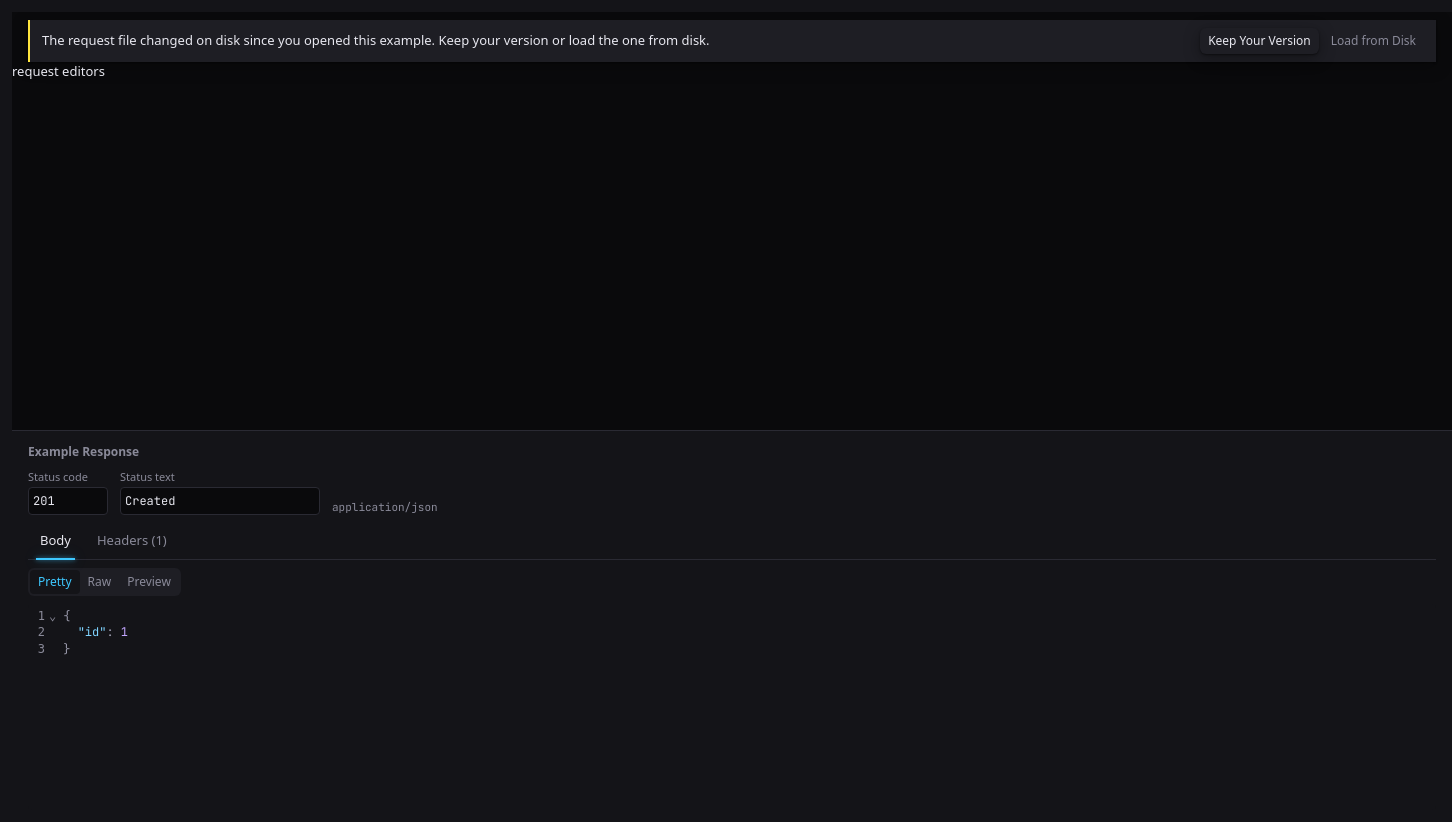
Test: ExampleTab › offers keep mine or load from disk on a revision conflict
What coordinates should you click on to do the following:
click the button "Keep Your Version"
I would click on:
 (1259, 41)
Its box is [1200, 28, 1319, 54].
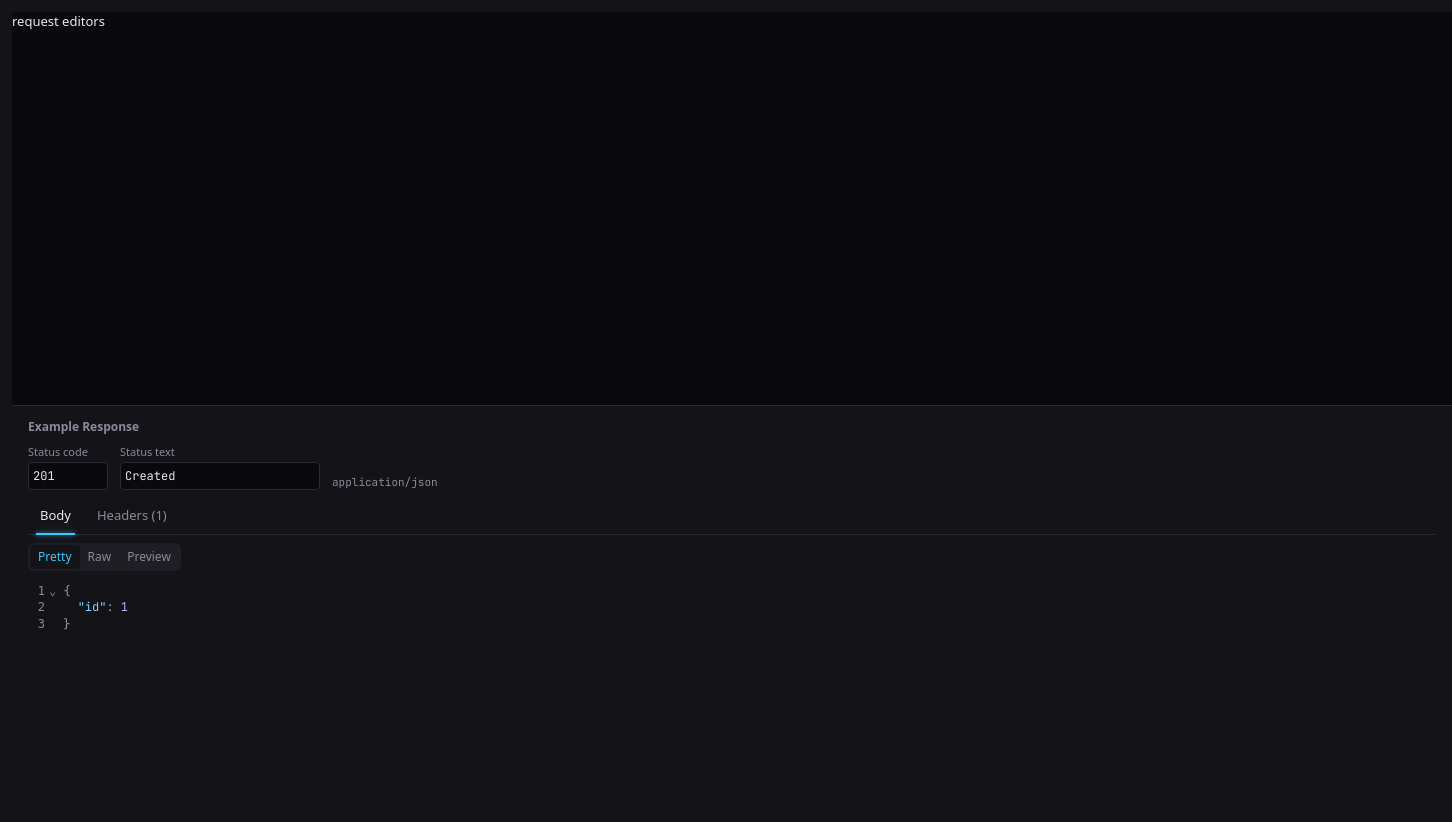
Check: the text "Keep Your Version" is gone
